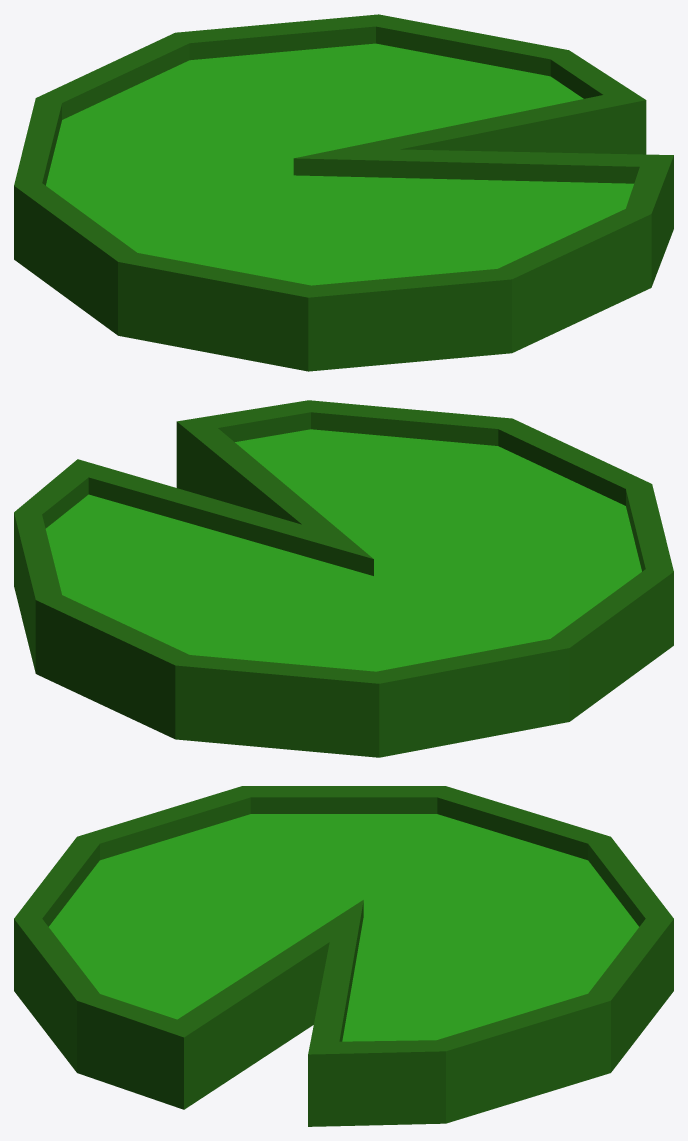
Rendered from WaterLily_Green_2.fbx.
The picture shows the model from 3 angles, top to bottom: view 1: azimuth 30°, elevation 25°; view 2: azimuth 150°, elevation 25°; view 3: azimuth 270°, elevation 25°; orthographic projection. The views are drawn at different scales.
Visible parts, largest first — view 1: Cylinder.016, Cylinder.304; view 2: Cylinder.016, Cylinder.304; view 3: Cylinder.304, Cylinder.016.
Part boxes in pixels (x1,y1,x2,y2): Cylinder.016: [14, 14, 673, 371]; Cylinder.304: [46, 43, 633, 285]; Cylinder.016: [14, 400, 673, 757]; Cylinder.304: [45, 429, 641, 671]; Cylinder.304: [49, 814, 638, 1041]; Cylinder.016: [14, 786, 673, 1126].
Size of the model in its own units: 115 by 14.41 by 119.
